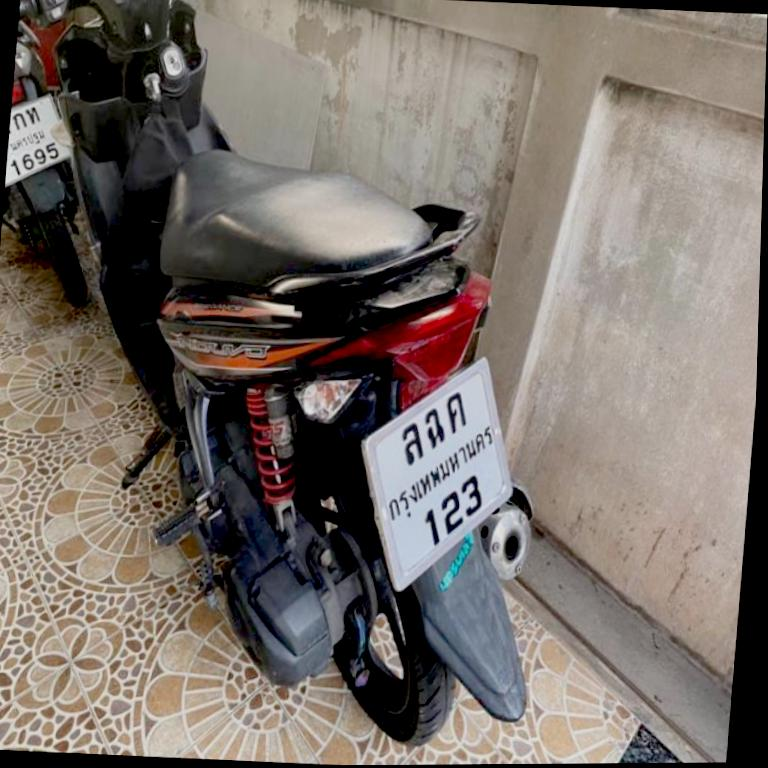license plate: (362, 358, 510, 587), (5, 96, 68, 183)
